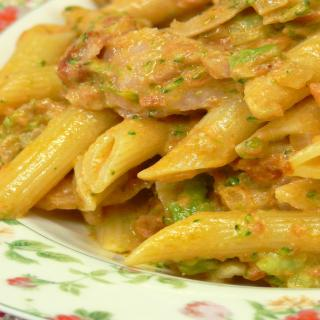Pasta: (0, 0, 320, 290)
